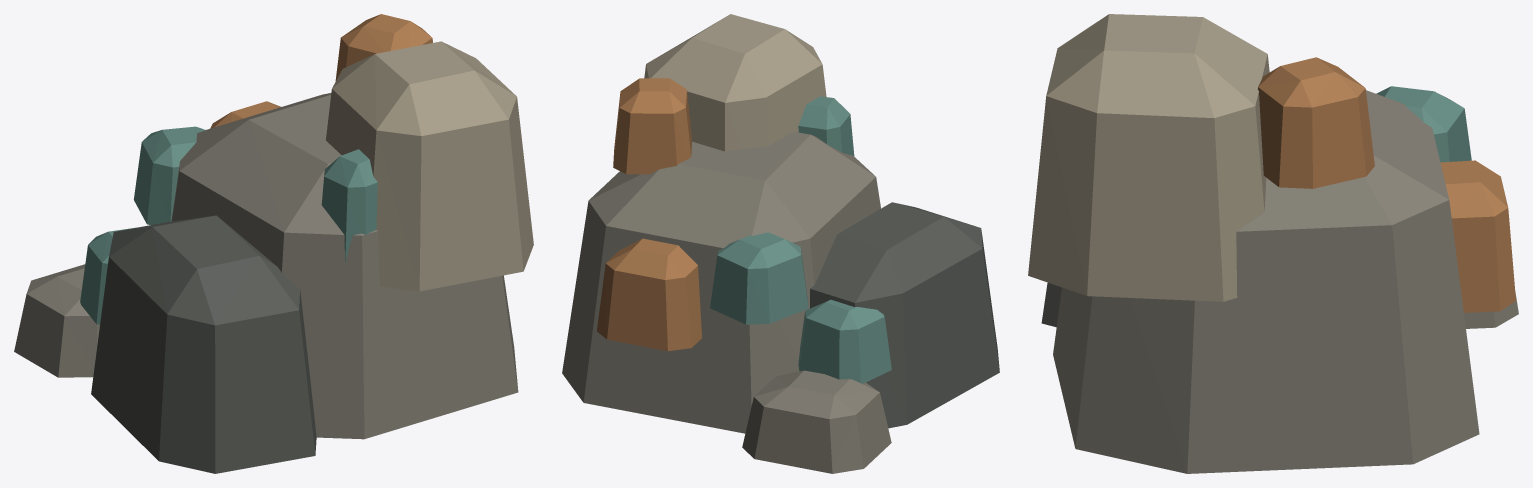
File: Mine_OreCluster.fbx
3 renders of one model, left to right at view 1: azimuth 30°, elevation 25°; view 2: azimuth 150°, elevation 25°; view 3: azimuth 270°, elevation 25°, orthographic. The views are drawn at different scales.
Parts seen in each view (by area): view 1: Mine_OreCluster; view 2: Mine_OreCluster; view 3: Mine_OreCluster.
Boxes of the visible parts, x1=… form: Mine_OreCluster: x1=14, y1=14, x2=533, y2=473; Mine_OreCluster: x1=562, y1=14, x2=999, y2=473; Mine_OreCluster: x1=1028, y1=14, x2=1518, y2=473.
Size of the model in its own units: 1.5 by 1.2 by 1.4.
